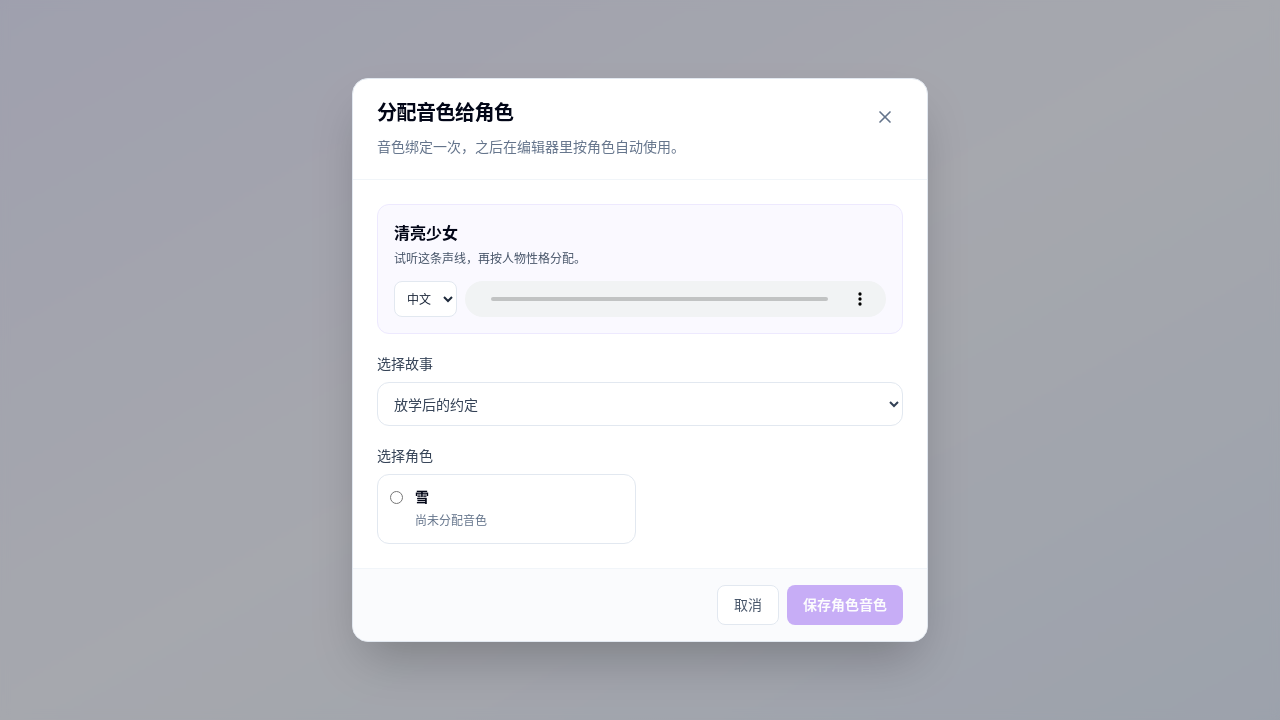
audition and assignment workflow › keeps assignment unchanged when the server rejects a save
Click the radio button with aria-label "分配给雪" at (396, 498), box [390,491,403,504]
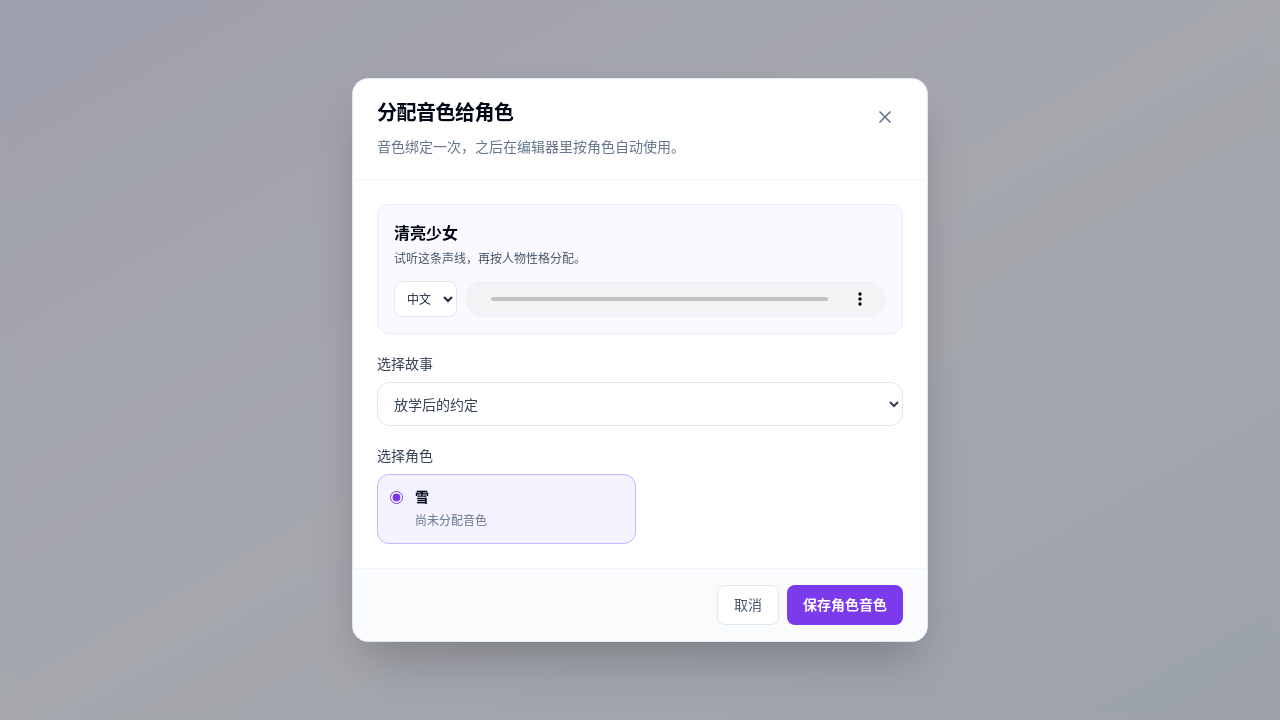
Click the button "保存角色音色" at (845, 605), box [787,585,903,625]
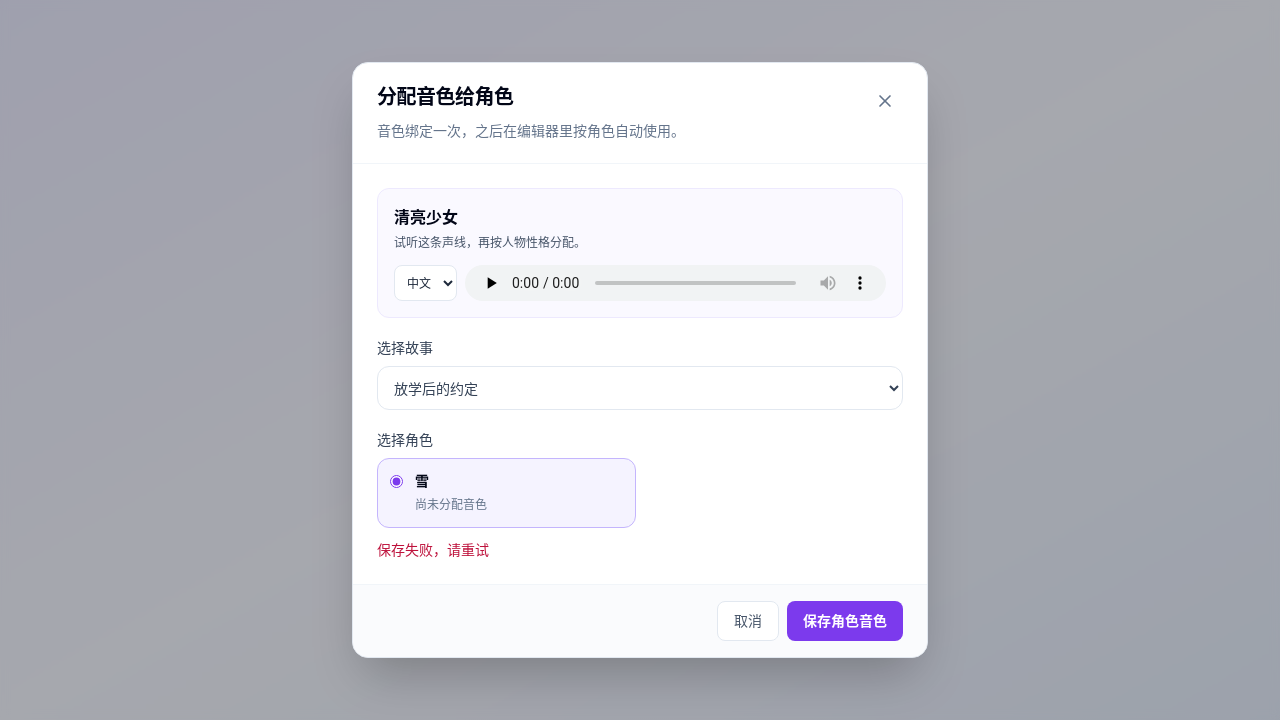
Expected: the button "保存角色音色" is enabled, [787,601,903,641]
Expected: the message "保存失败，请重试" is shown, [377,540,489,559]
